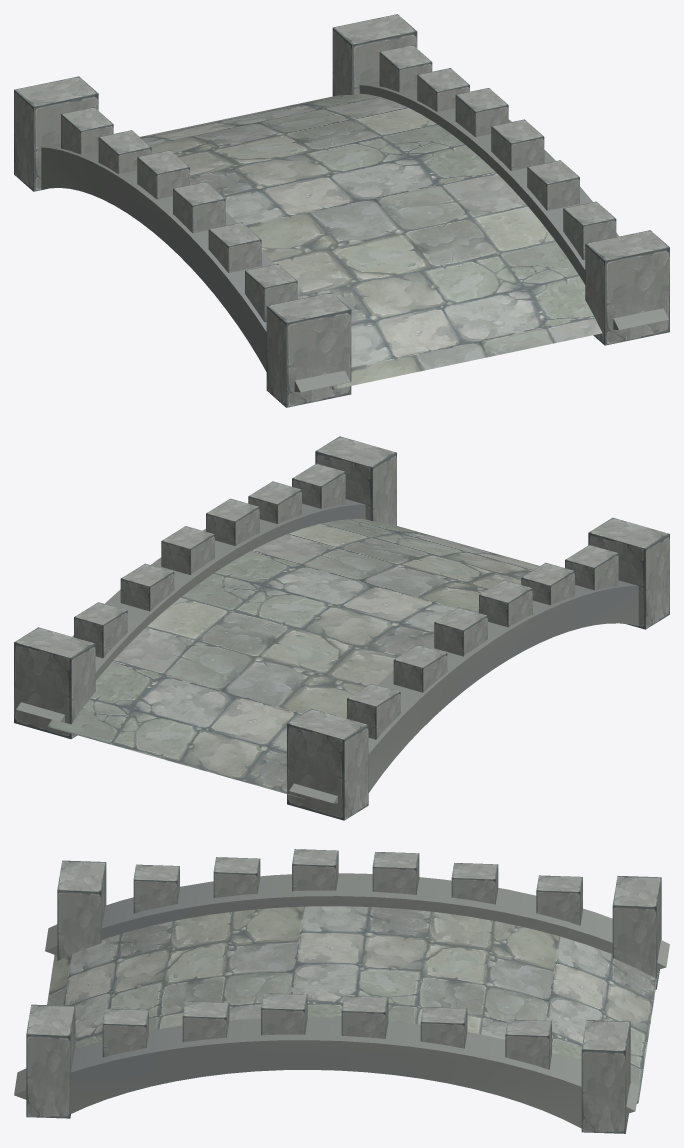
Rendered from bridge_small.FBX.
The picture shows the model from 3 angles, top to bottom: view 1: azimuth 30°, elevation 25°; view 2: azimuth 150°, elevation 25°; view 3: azimuth 270°, elevation 25°; orthographic projection. The views are drawn at different scales.
Parts seen in each view (by area): view 1: bridge_small; view 2: bridge_small; view 3: bridge_small.
Boxes of the visible parts, x1,y1,x2,y2 form: bridge_small: [14, 14, 669, 407]; bridge_small: [14, 436, 669, 820]; bridge_small: [14, 849, 669, 1133].
Bounding box in the file's own units: 6.96 × 1.81 × 10.12.
1 material, 1 textured.
